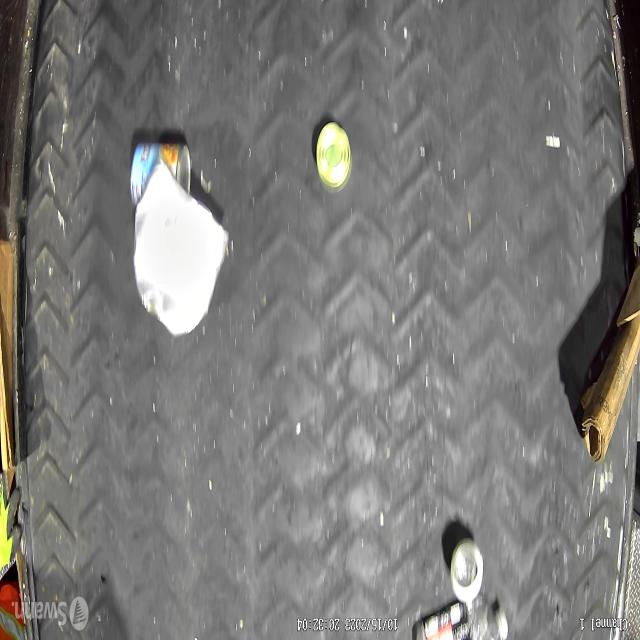can: (130, 140, 191, 210), (315, 121, 352, 193), (449, 538, 484, 603)
